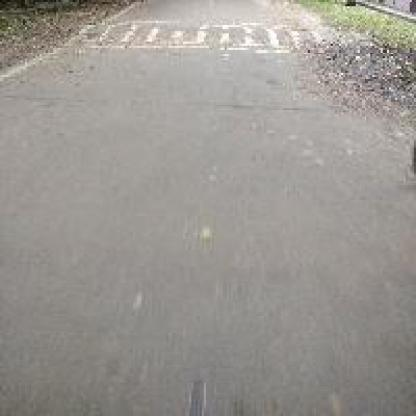Speed Bump: (81, 13, 304, 58)
